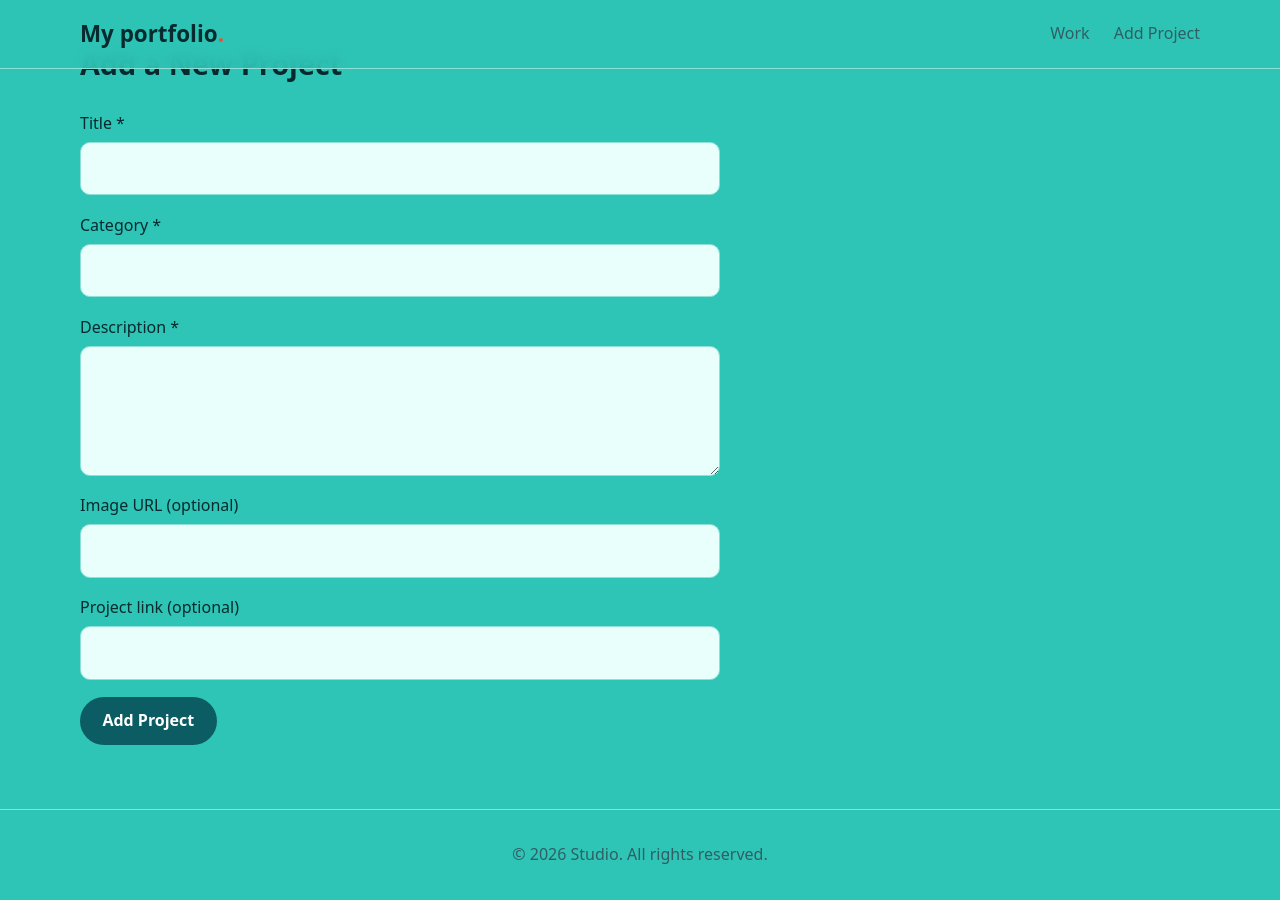
it: Portfolio Platform › shows validation errors for an empty form
(page scrolled)
Click the button "Add Project".
click(148, 721)  # box [80,697,217,745]
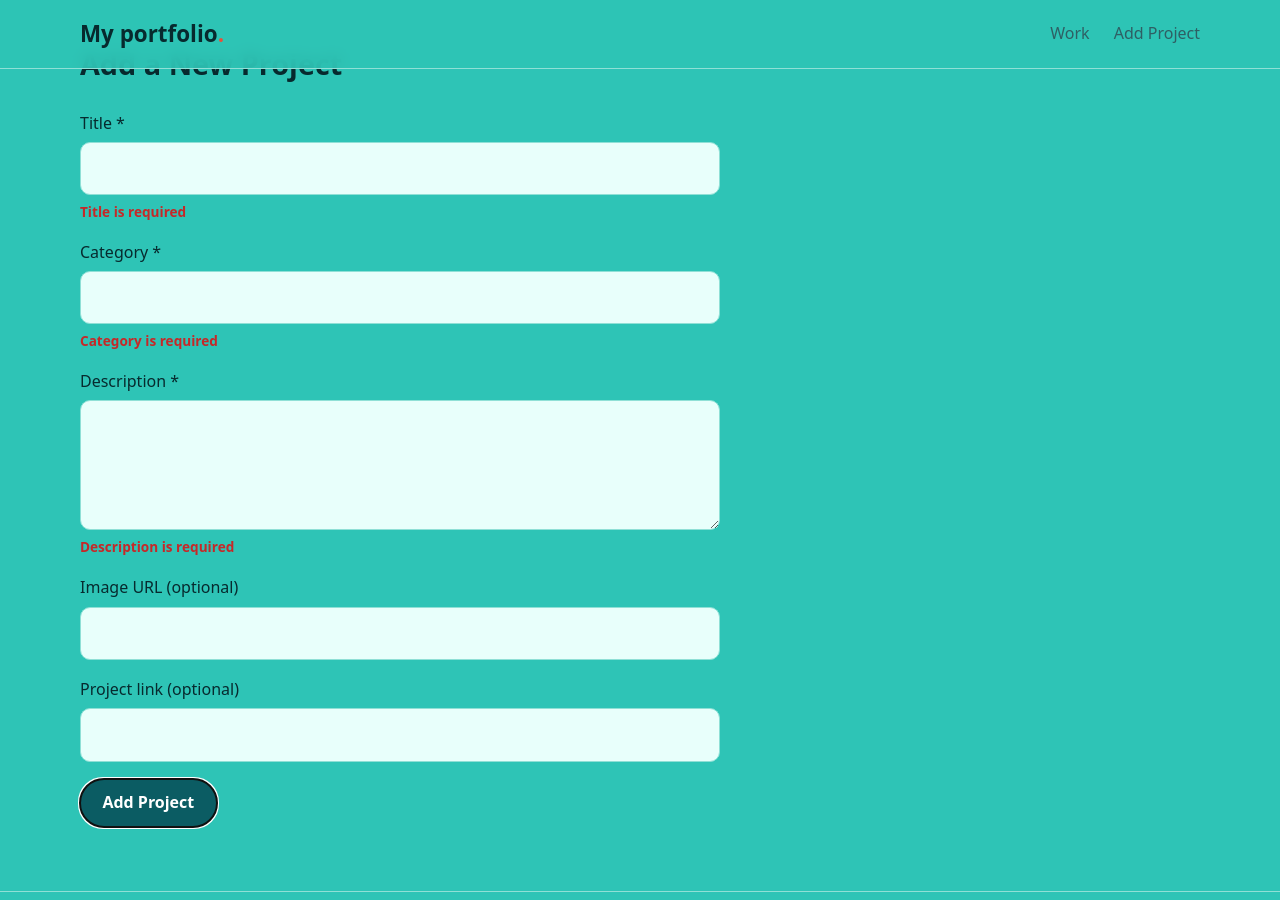
Result: the number of messages is 3 at [80,202,186,221]; [80,331,218,350]; [80,537,234,556]
